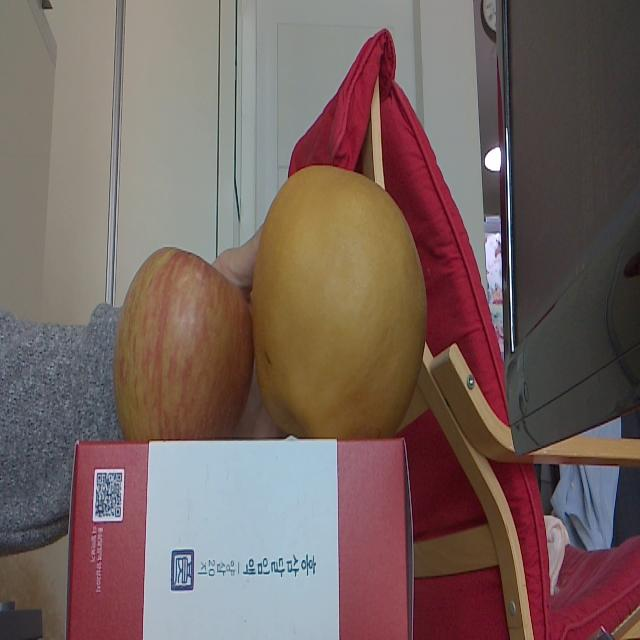apple: (116, 244, 254, 438)
pear: (255, 163, 430, 436)
